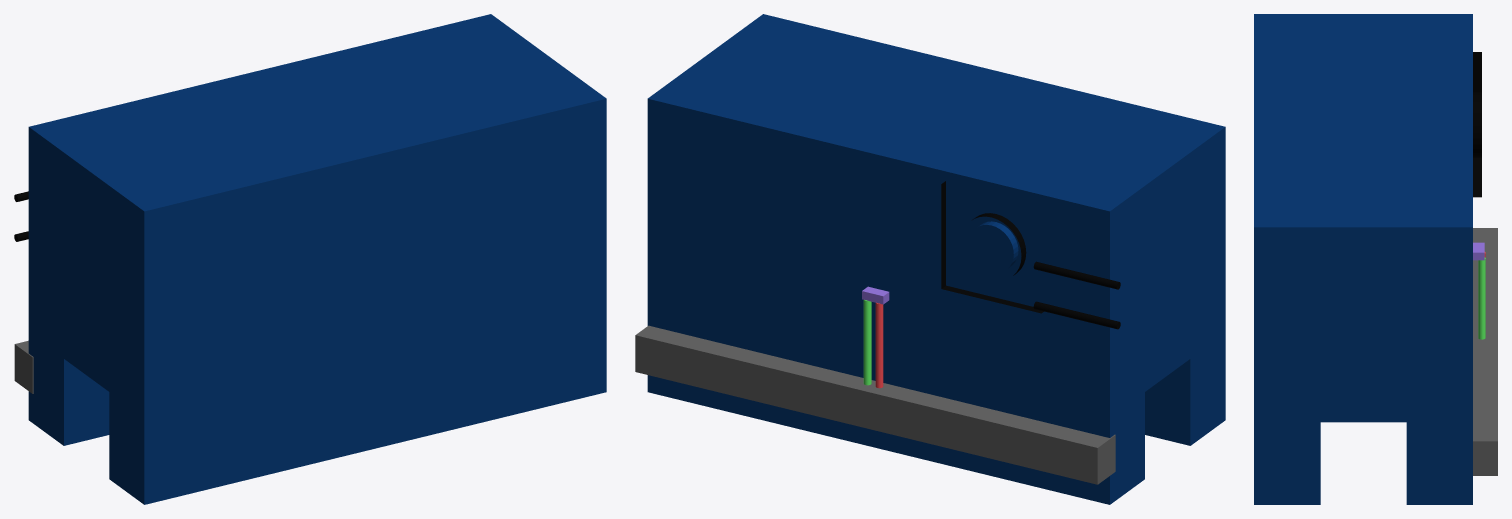
The model's file is BobbyDerSchlitten.fbx.
The picture shows the model from 3 angles, left to right: view 1: azimuth 30°, elevation 25°; view 2: azimuth 150°, elevation 25°; view 3: azimuth 270°, elevation 25°; orthographic projection. The views are drawn at different scales.
Parts seen in each view (by area): view 1: Cylinder; view 2: Cylinder; view 3: Cylinder.
Boxes of the visible parts, x1=… form: Cylinder: x1=14, y1=14, x2=606, y2=504; Cylinder: x1=635, y1=14, x2=1225, y2=504; Cylinder: x1=1254, y1=14, x2=1497, y2=504.
Bounding box in the file's own units: 472 × 280 × 223.
